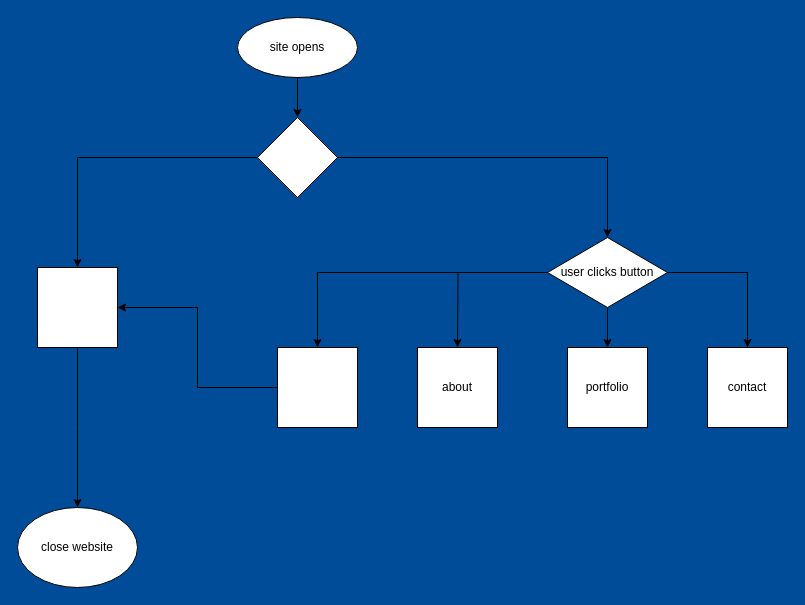
This 805x605 diagram has some shape labels left out. Here are the shapes that lost their labels. From the top down, the box of each, then its label:
(256, 116, 338, 198): user scrolls
(36, 266, 118, 348): main menu
(276, 346, 358, 428): home
